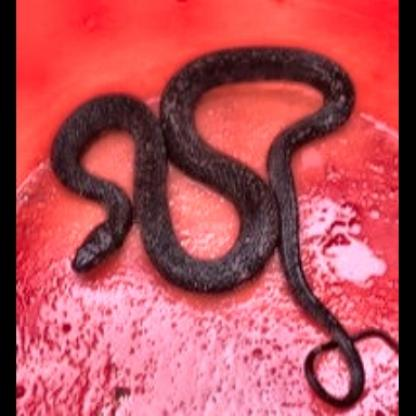Snake: (30, 37, 386, 402)
